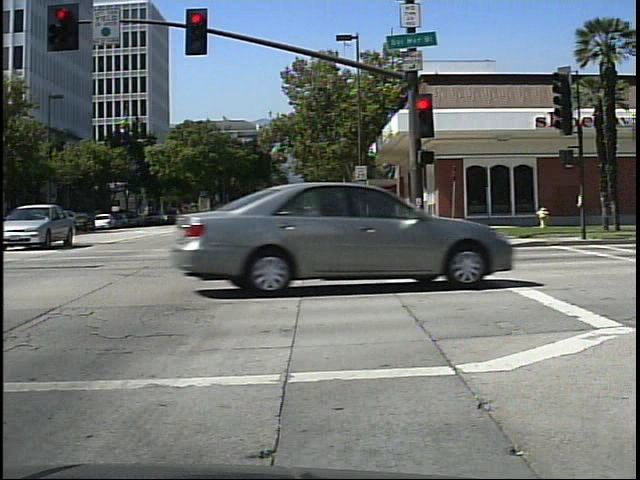person: (275, 204, 287, 223)
